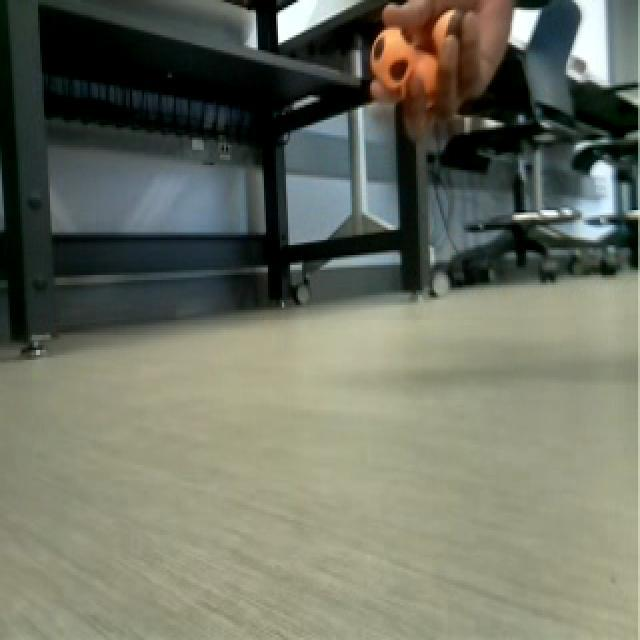oball: (366, 23, 420, 90)
